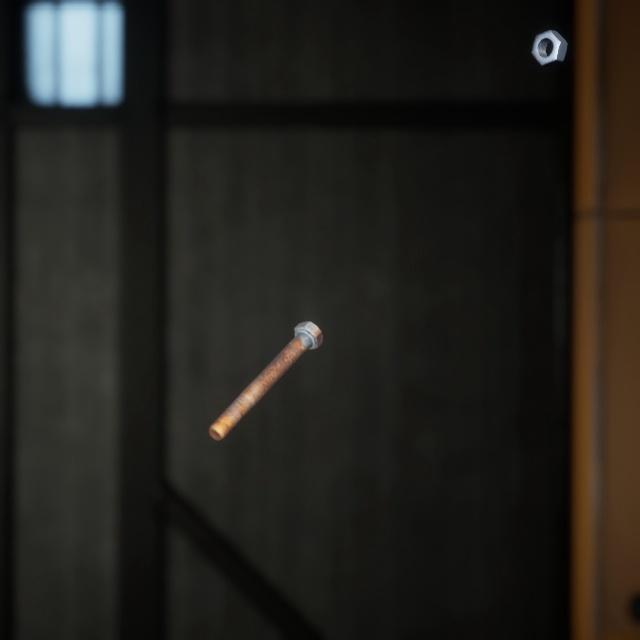bolt: (204, 297, 327, 424)
nut: (527, 16, 572, 62)
